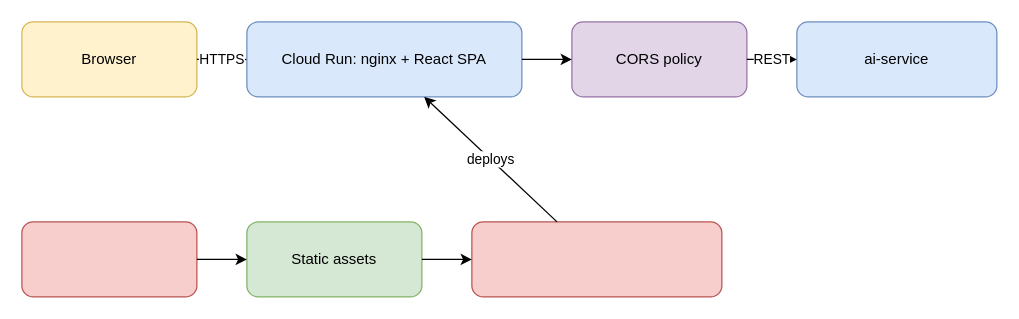
Image size: 1019x319. Some labels were removed from this diagram. Here are the shapes that lost their labels. From the top down, the centre of each, then its label:
pixel 109 259: Vite build
pixel 596 259: nginx container image
